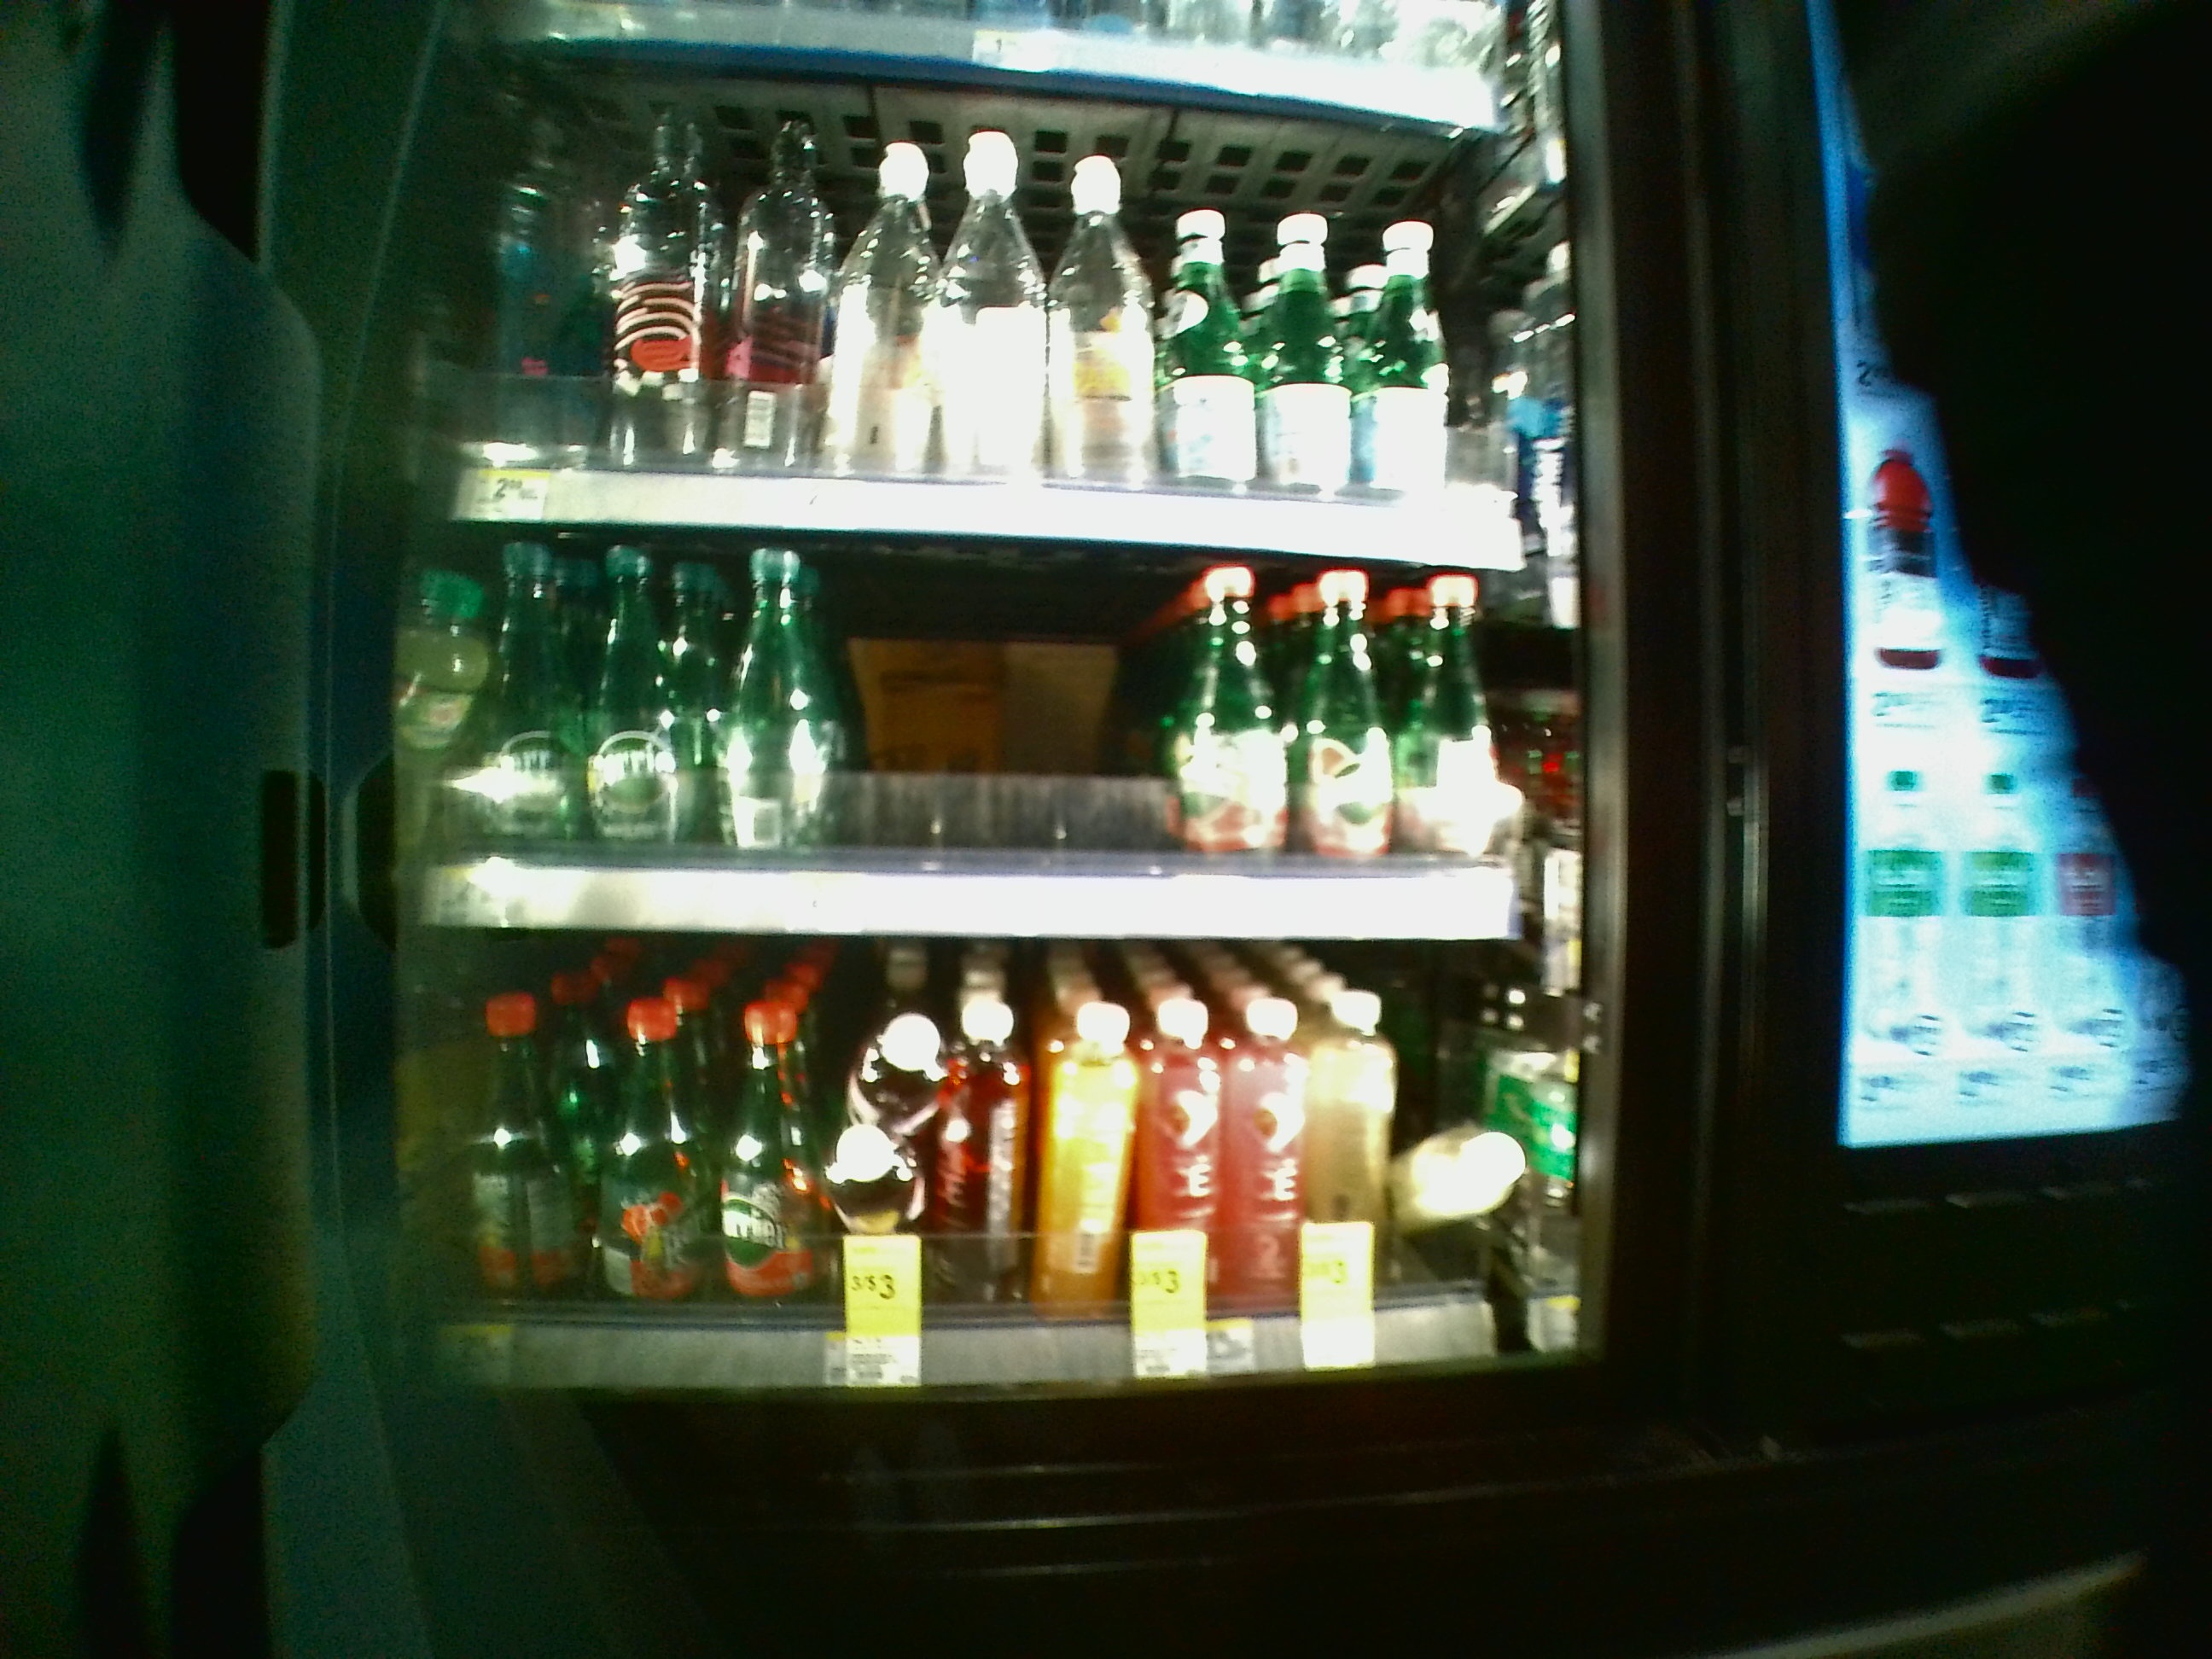shelf: (416, 950, 1618, 1405), (416, 523, 1609, 948)
